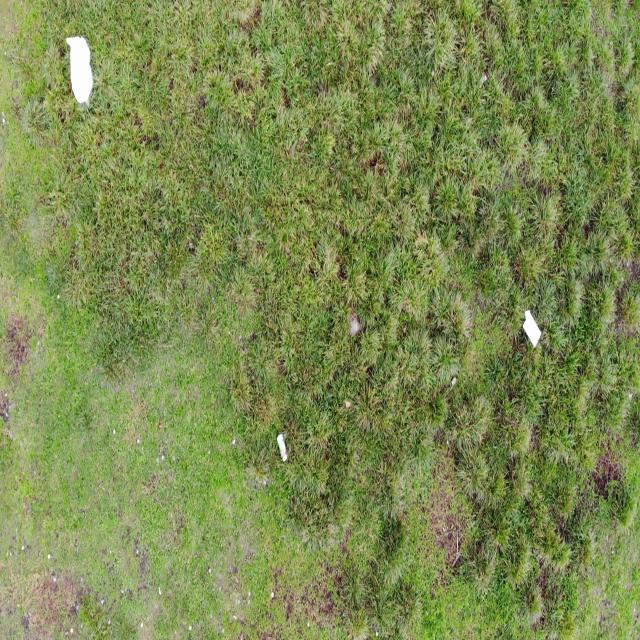rubbish: (65, 36, 94, 102), (522, 310, 543, 351), (276, 431, 289, 464)
